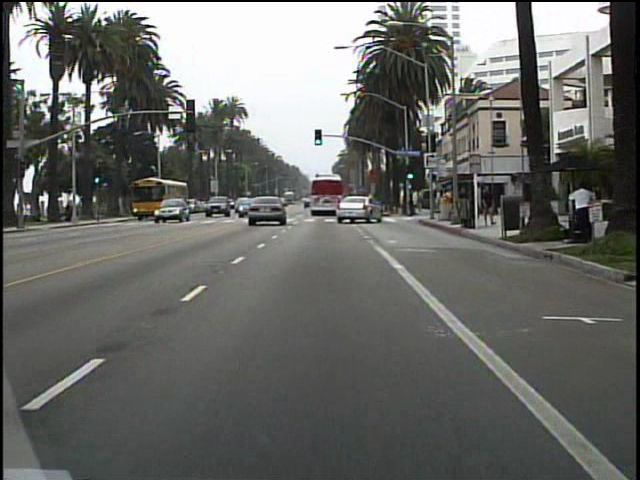person: (567, 177, 597, 246), (480, 180, 498, 230), (458, 183, 475, 224), (440, 183, 454, 221)
